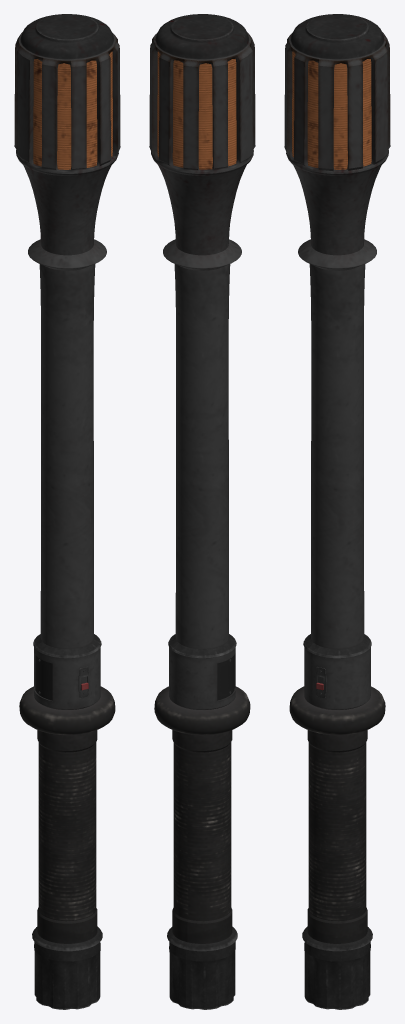
Rendered from Stunstick.fbx.
The picture shows the model from 3 angles, left to right: view 1: azimuth 30°, elevation 25°; view 2: azimuth 150°, elevation 25°; view 3: azimuth 330°, elevation 25°; orthographic projection.
Parts seen in each view (by area): view 1: Object_5; view 2: Object_5; view 3: Object_5.
Boxes of the visible parts, x1,y1,x2,y2 form: Object_5: (14, 14, 120, 1009); Object_5: (149, 14, 255, 1009); Object_5: (284, 14, 390, 1009).
Size of the model in its own units: 351 by 3529 by 345.
